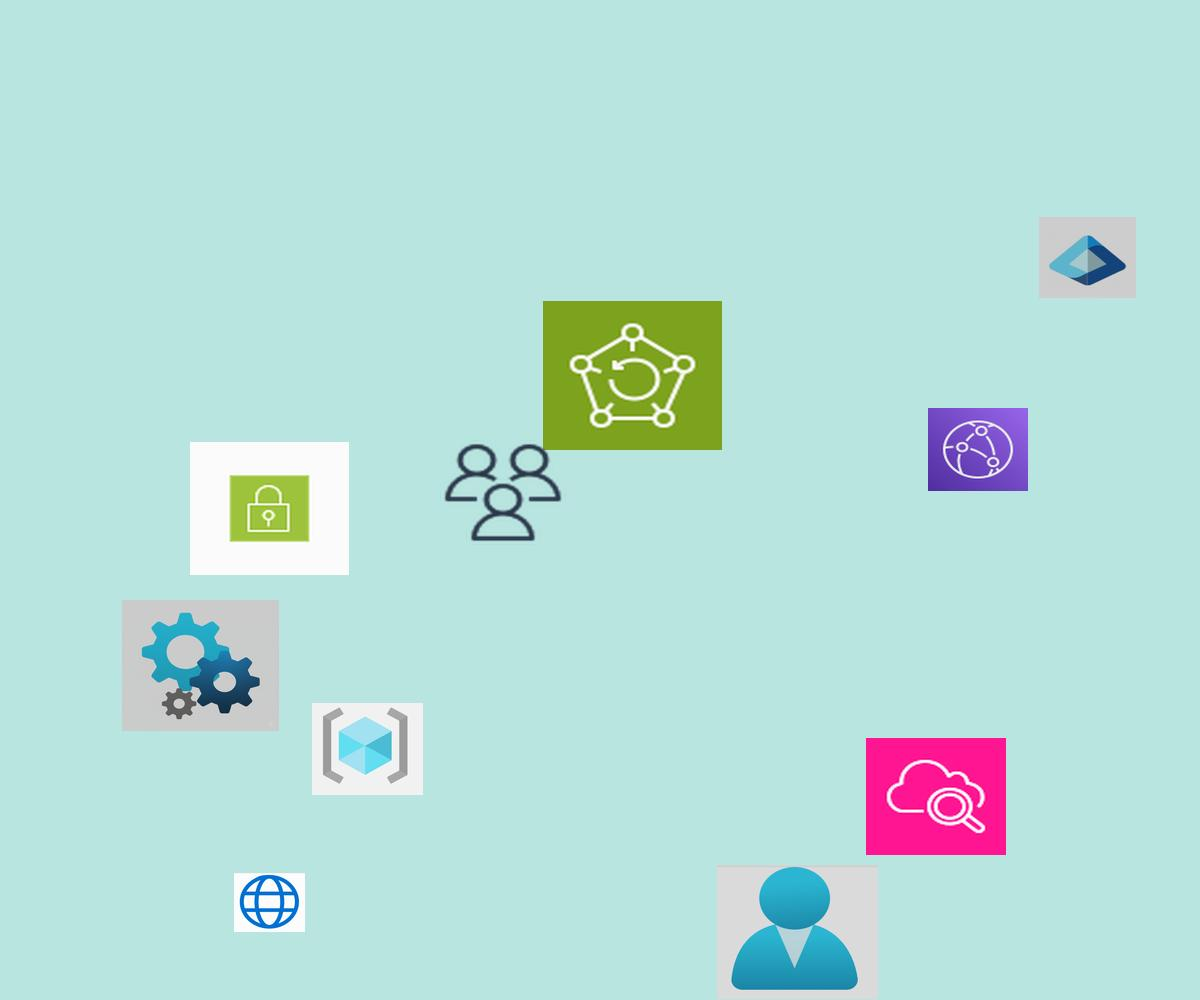AWS-Backup: (543, 301, 722, 450)
AWS-CloudFront: (928, 408, 1028, 491)
AWS-CloudWatch: (866, 738, 1006, 855)
AWS-Public-subnet: (190, 442, 349, 575)
AWS-Res_Users: (440, 440, 566, 545)
Azure_api: (122, 600, 279, 731)
Azure_http: (234, 873, 305, 932)
Azure_microsoft_entra: (1039, 217, 1136, 298)
Azure_resource_group: (312, 703, 423, 795)
Azure_users: (717, 865, 878, 999)
